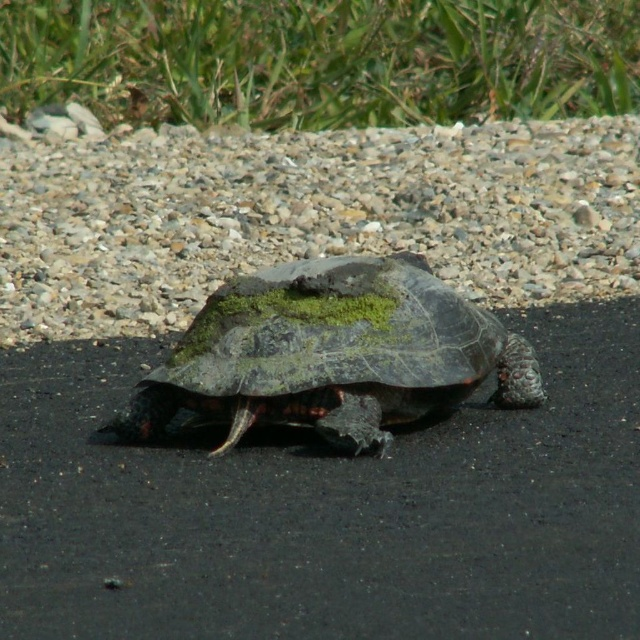Tortoise: (95, 251, 548, 459)
